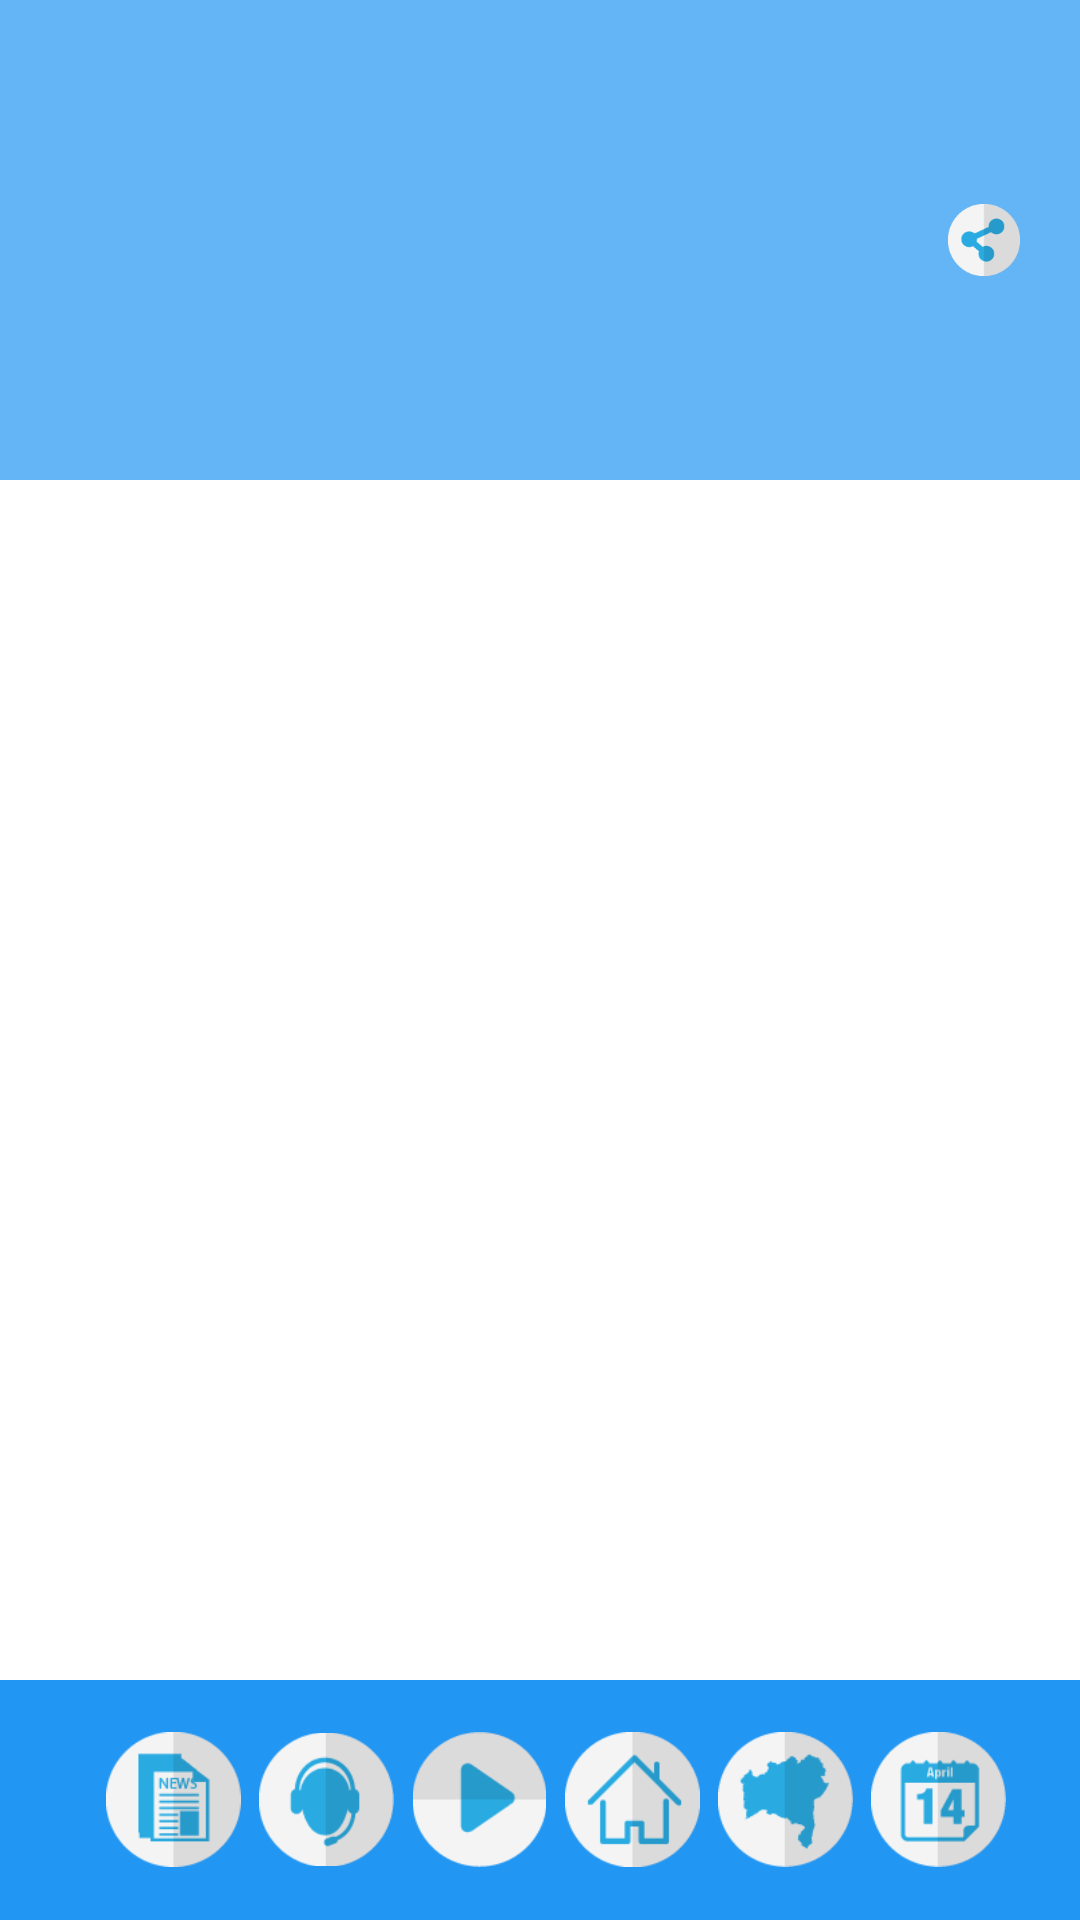

Locate icon controls on the screen. Image size 1080×1920, boxes as (x1, y1, x2, y2).
agenda: (871, 1732, 1006, 1867)
compartilhar: (948, 204, 1020, 276)
linhadir: (259, 1733, 394, 1866)
mapas: (718, 1732, 853, 1867)
portal: (565, 1732, 700, 1867)
webtv: (413, 1732, 546, 1867)
